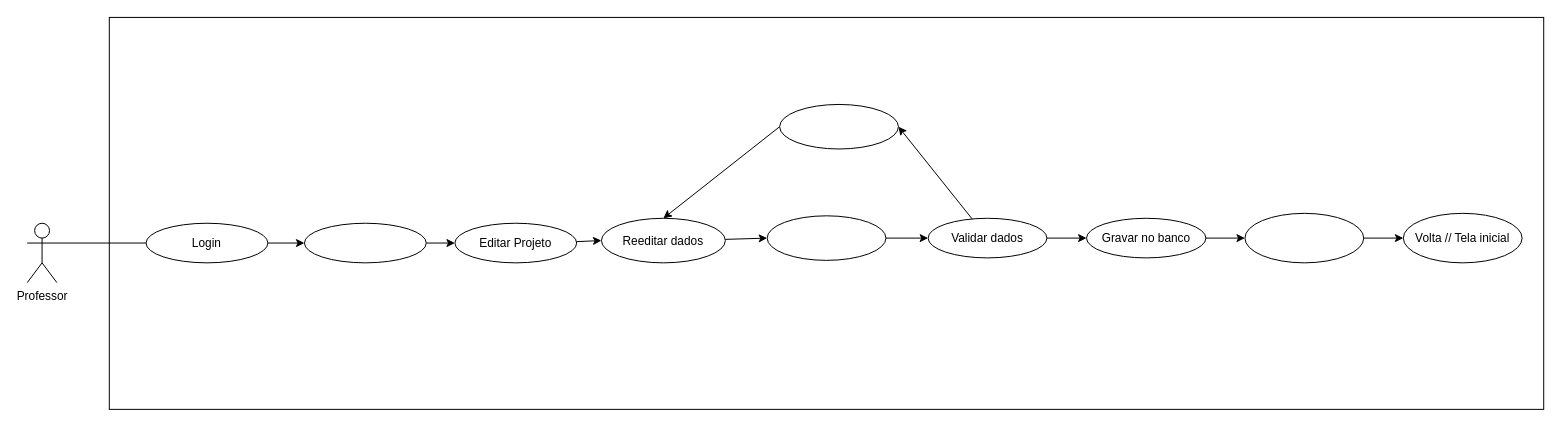
The diagram is 1561 pixels wide and 427 high, and some of its shapes have lost their labels. The shapes that lost their labels are listed below. From the top down, each one's box as (x1, y1, x2, y2) in pixels, then its label:
(779, 103, 898, 149): Dados inválidos
(303, 222, 426, 263): Ver seus Projetos
(766, 215, 886, 260): Enviar Projeto
(1244, 212, 1364, 263): Mensagem de confirmação
